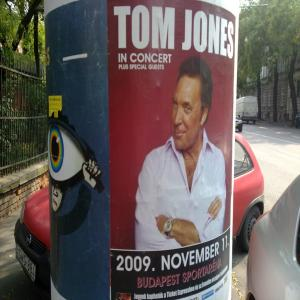Vehicle-registration-plate: (17, 244, 38, 284)
